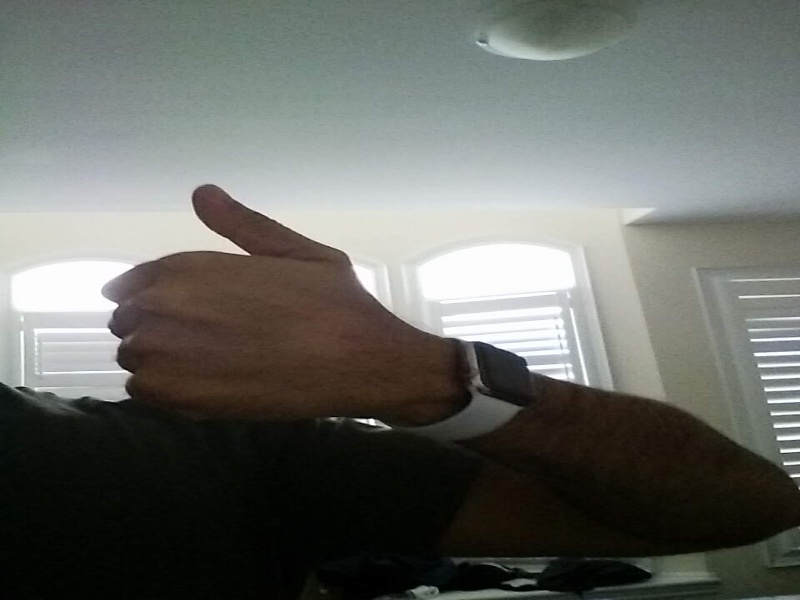thumbup: (102, 181, 374, 424)
